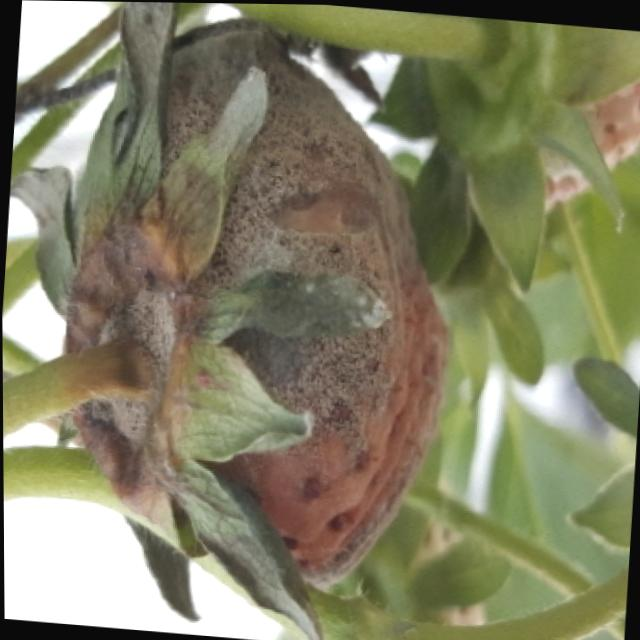Gray Mold: (61, 1, 453, 590)
